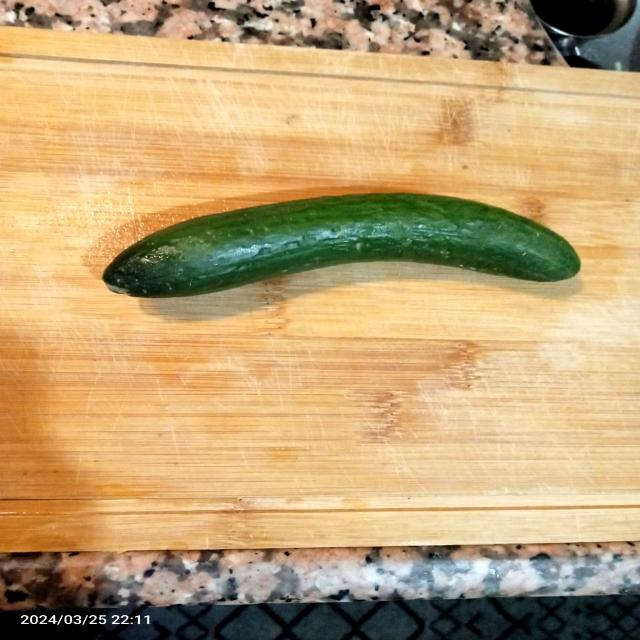cucumber: (85, 166, 596, 314)
